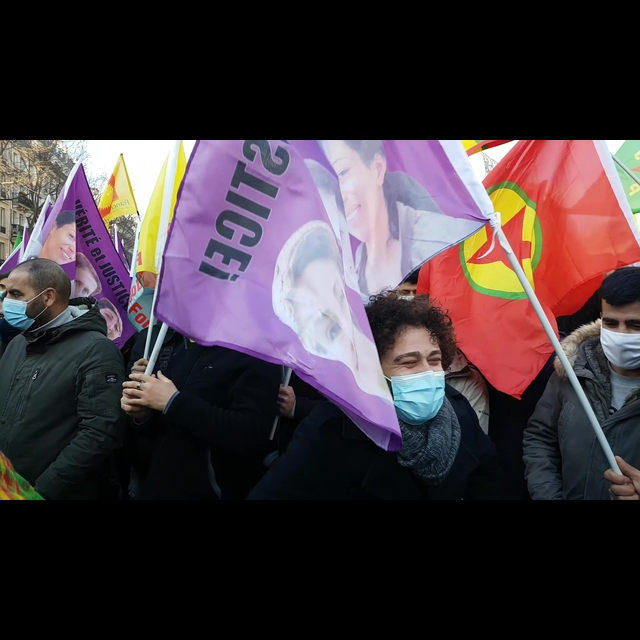PKK: (438, 156, 567, 315)
